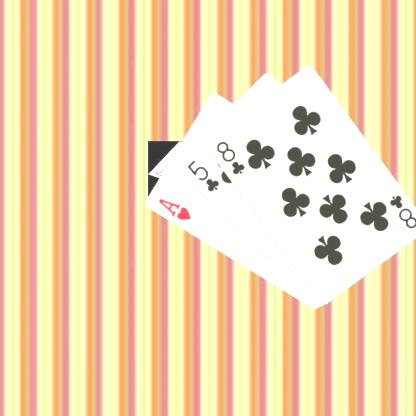5C: (184, 158, 220, 194)
8C: (213, 138, 246, 176), (386, 192, 416, 230)
AH: (155, 196, 192, 222)
